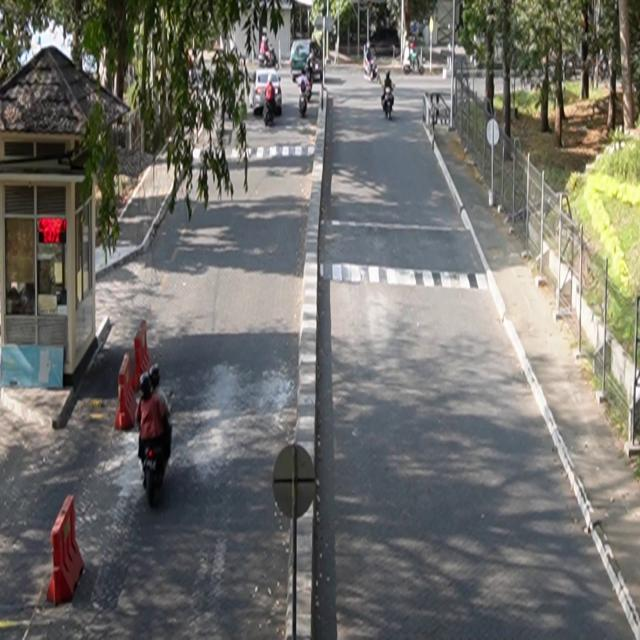car: (250, 68, 283, 125)
